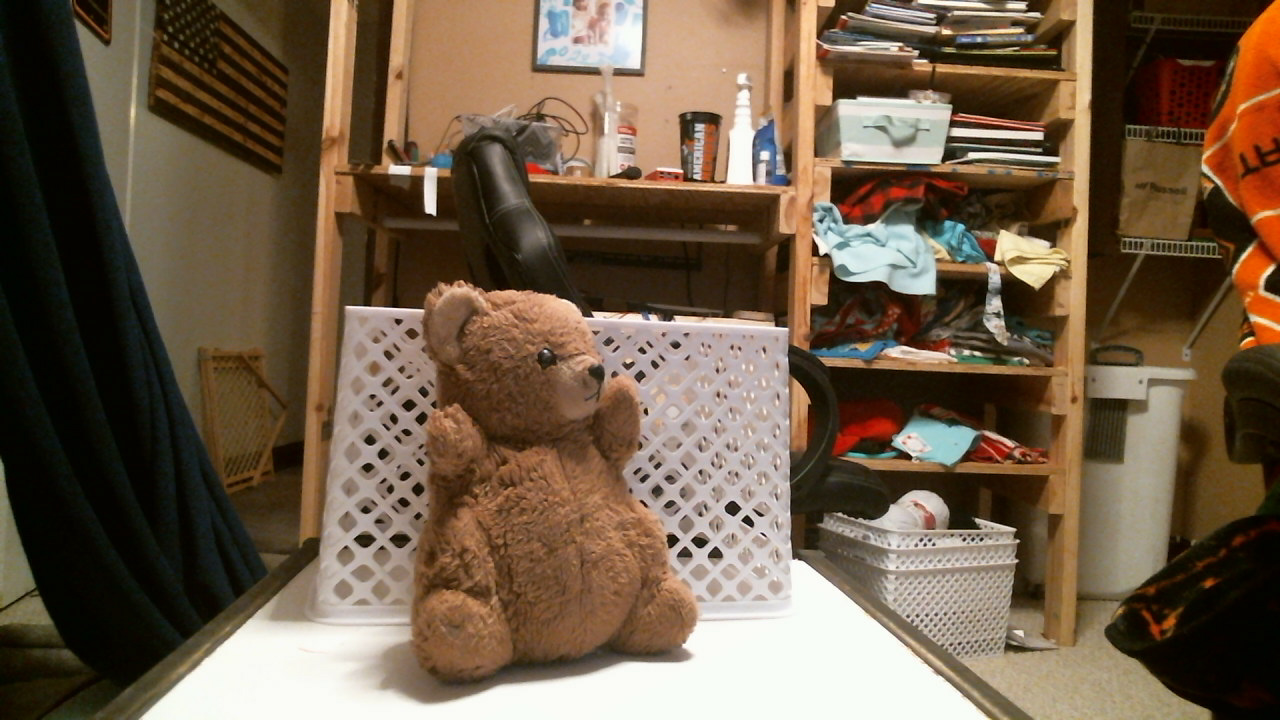Little_Mister_Bear: (538, 348, 607, 421)
